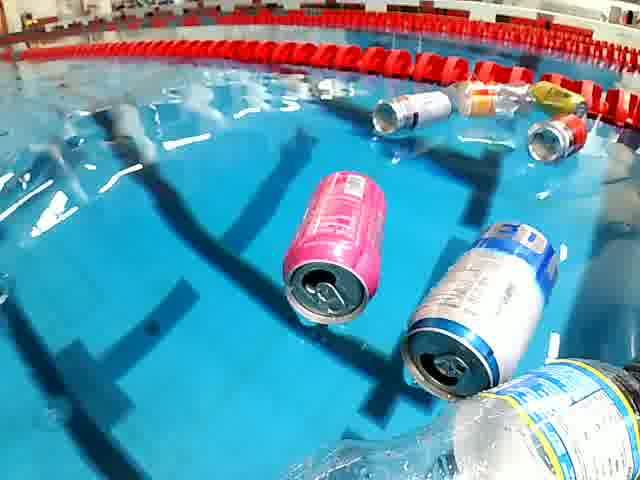Bottle: (274, 337, 638, 480), (435, 79, 545, 121)
Can: (396, 216, 568, 406), (279, 171, 392, 328), (365, 88, 457, 140), (519, 111, 594, 166), (528, 79, 590, 117)
